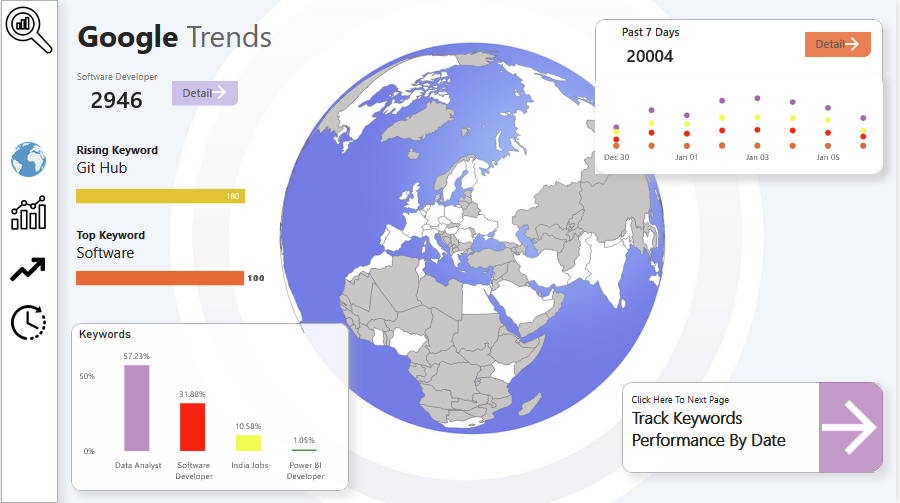

The page's visual inventory and layout, read from the dashboard file:
{"tool":"powerbi","page":{"name":"Overview","canvas":[1280,720],"ordinal":0},"visuals":[{"type":"group","id":"g1","title":"Group 6","box":[100.6,100.6,239.5,66.6],"z":0},{"type":"clusteredBarChart","fields":{"Y":["Sum(Top_Keywords.Value)"]},"box":[103.6,355.2,279.3,79.5],"z":0,"group":"g3"},{"type":"shape","box":[850,26.9,411.6,221.7],"z":500,"group":"g6"},{"type":"group","id":"g2","title":"Group 3","box":[104.7,15.1,340.4,85.1],"z":1000},{"type":"lineChart","fields":{"Y":["Sum(past_7_day_searches.value)"],"Category":["past_7_day_searches.Date.Variation.Date Hierarchy.Year","past_7_day_searches.Date.Variation.Date Hierarchy.Quarter","past_7_day_searches.Date.Variation.Date Hierarchy.Month","past_7_day_searches.Date.Variation.Date Hierarchy.Day"],"Series":["past_7_day_searches.Keywords"]},"box":[861.4,105,392.6,133.2],"z":1000,"group":"g6"},{"type":"textbox","box":[103.6,303.4,220.1,81.4],"z":1000,"group":"g3"},{"type":"actionButton","box":[1151.1,45.5,94.5,35.7],"z":2000,"group":"g6"},{"type":"actionButton","box":[245.2,116.2,95,35.4],"z":2000,"group":"g1"},{"type":"group","id":"g3","title":"Group 4","box":[103.6,181.3,279.3,253.4],"z":2000},{"type":"textbox","box":[103.6,181.3,216.4,107.3],"z":2000,"group":"g3"},{"type":"card","title":"Past 7 Days","fields":{"Values":["past_7_day_searches.sum_of_value"]},"box":[854.5,33.4,150.4,70.8],"z":3000,"group":"g6"},{"type":"clusteredBarChart","fields":{"Y":["Sum(Rising_Keywords.Value)"]},"box":[103.6,236.8,279.3,79.5],"z":3000,"group":"g3"},{"type":"clusteredColumnChart","title":"Keywords","fields":{"Y":["Country_measures.country_value"],"Category":["Country_API.Keywords"]},"box":[100.8,461.9,398.1,240.2],"z":3000},{"type":"shape","box":[888.6,546.9,374.3,129.9],"z":4000,"group":"g4"},{"type":"actionButton","box":[0,0,100,40],"z":5000},{"type":"actionButton","box":[1170.6,546.9,92.3,129.9],"z":5000,"group":"g4"},{"type":"shapeMap","fields":{"Category":["Country_API.Country"]},"box":[340.1,39.3,669.9,610.1],"z":6000},{"type":"shape","box":[0,0,81.4,719.5],"z":7000},{"type":"textbox","box":[104.7,15.1,340.4,85.1],"z":7000,"group":"g2"},{"type":"image","box":[11.2,195.8,59.2,64.7],"z":7000,"group":"g5"},{"type":"image","box":[11.2,271.6,59.2,64.7],"z":8000,"group":"g5"},{"type":"textbox","box":[897.1,558.9,273.4,104.2],"z":8000,"group":"g4"},{"type":"image","box":[9.3,353,59.2,64.7],"z":9000,"group":"g5"},{"type":"group","id":"g4","title":"Group 2","box":[888.6,546.9,374.3,129.9],"z":9000},{"type":"image","box":[0,0,81.4,85.1],"z":10000},{"type":"image","box":[11.2,428.9,59.2,64.7],"z":10000,"group":"g5"},{"type":"card","title":"Software Developer","fields":{"Values":["Date_API.Imp_Value"]},"box":[100.6,100.6,131.8,66.6],"z":10001,"group":"g1"},{"type":"group","id":"g5","title":"Group 5","box":[9.3,195.8,61,297.8],"z":11000},{"type":"group","id":"g6","title":"Group 1","box":[850,26.9,411.6,221.7],"z":13000}]}

Visuals, with their boxes on the page's 1280x720 design canvas (x1, y1, x2, y2). These are canvas units, not pixel positions in the 900x503 screenshot, which may show the page scaled, cropped or inside an application window:
"Group 6" group: (101, 101, 340, 167)
clusteredBarChart - Sum(Top_Keywords.Value): (104, 355, 383, 435)
shape: (850, 27, 1262, 249)
"Group 3" group: (105, 15, 445, 100)
lineChart - Sum(past_7_day_searches.value) x past_7_day_searches.Date.Variation.Date Hierarchy.Year: (861, 105, 1254, 238)
textbox: (104, 303, 324, 385)
actionButton: (1151, 46, 1246, 81)
actionButton: (245, 116, 340, 152)
"Group 4" group: (104, 181, 383, 435)
textbox: (104, 181, 320, 289)
"Past 7 Days" card: (854, 33, 1005, 104)
clusteredBarChart - Sum(Rising_Keywords.Value): (104, 237, 383, 316)
"Keywords" clusteredColumnChart: (101, 462, 499, 702)
shape: (889, 547, 1263, 677)
actionButton: (0, 0, 100, 40)
actionButton: (1171, 547, 1263, 677)
shapeMap - Country_API.Country: (340, 39, 1010, 649)
shape: (0, 0, 81, 720)
textbox: (105, 15, 445, 100)
image: (11, 196, 70, 260)
image: (11, 272, 70, 336)
textbox: (897, 559, 1170, 663)
image: (9, 353, 68, 418)
"Group 2" group: (889, 547, 1263, 677)
image: (0, 0, 81, 85)
image: (11, 429, 70, 494)
"Software Developer" card: (101, 101, 232, 167)
"Group 5" group: (9, 196, 70, 494)
"Group 1" group: (850, 27, 1262, 249)
